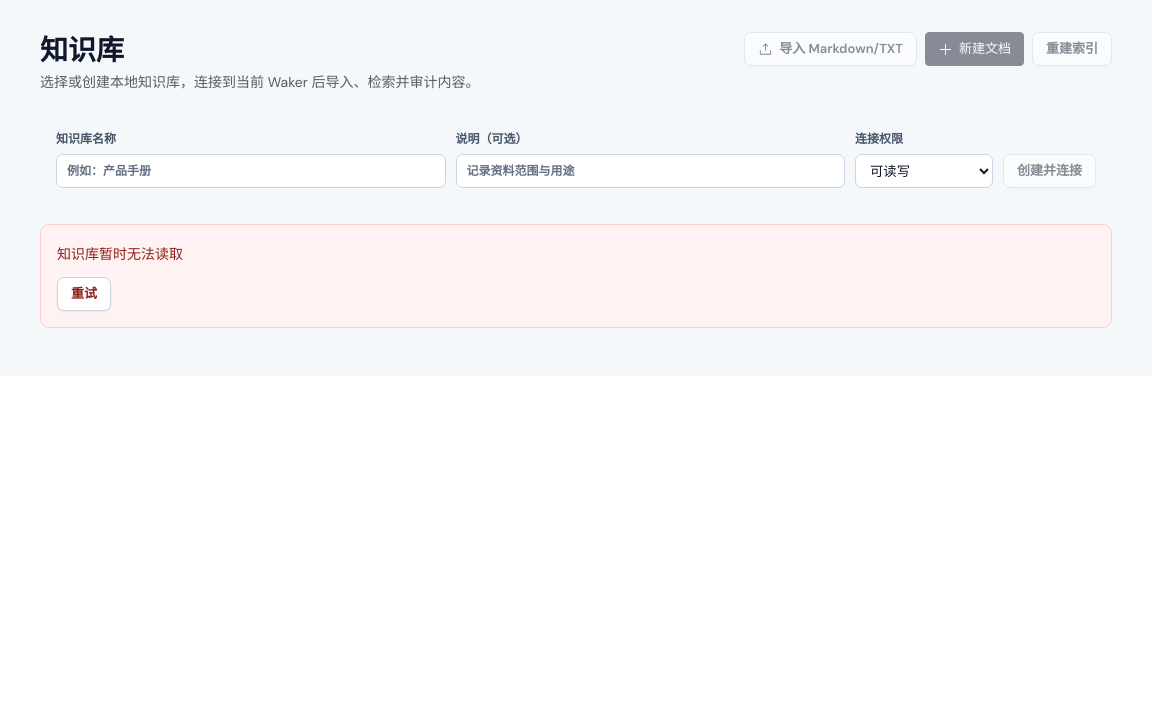
Scenario: KnowledgeManagementView › 网络中断时本地化错误并可重试恢复知识库目录
What coordinates should you click on to do the following:
click the button "重试"
I would click on:
 (84, 294)
Its box is x1=57 y1=277 x2=111 y2=311.
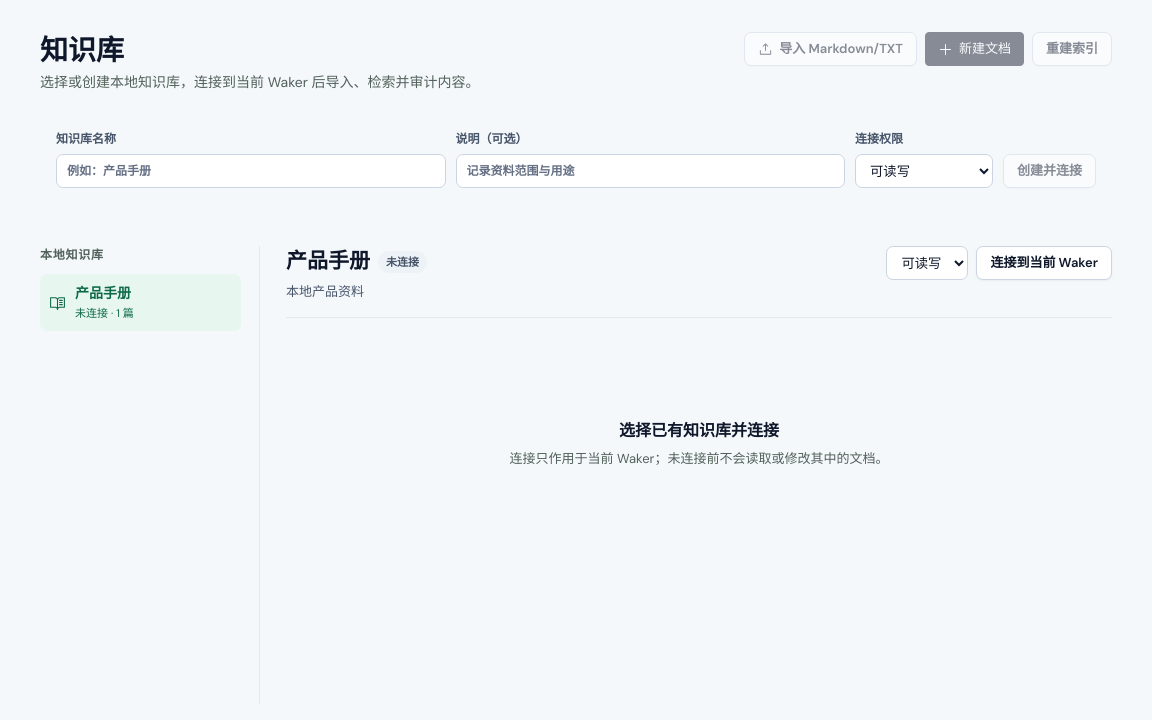
Expected: the button "产品手册 未连接 · 1 篇" is shown, x1=40 y1=274 x2=241 y2=330
